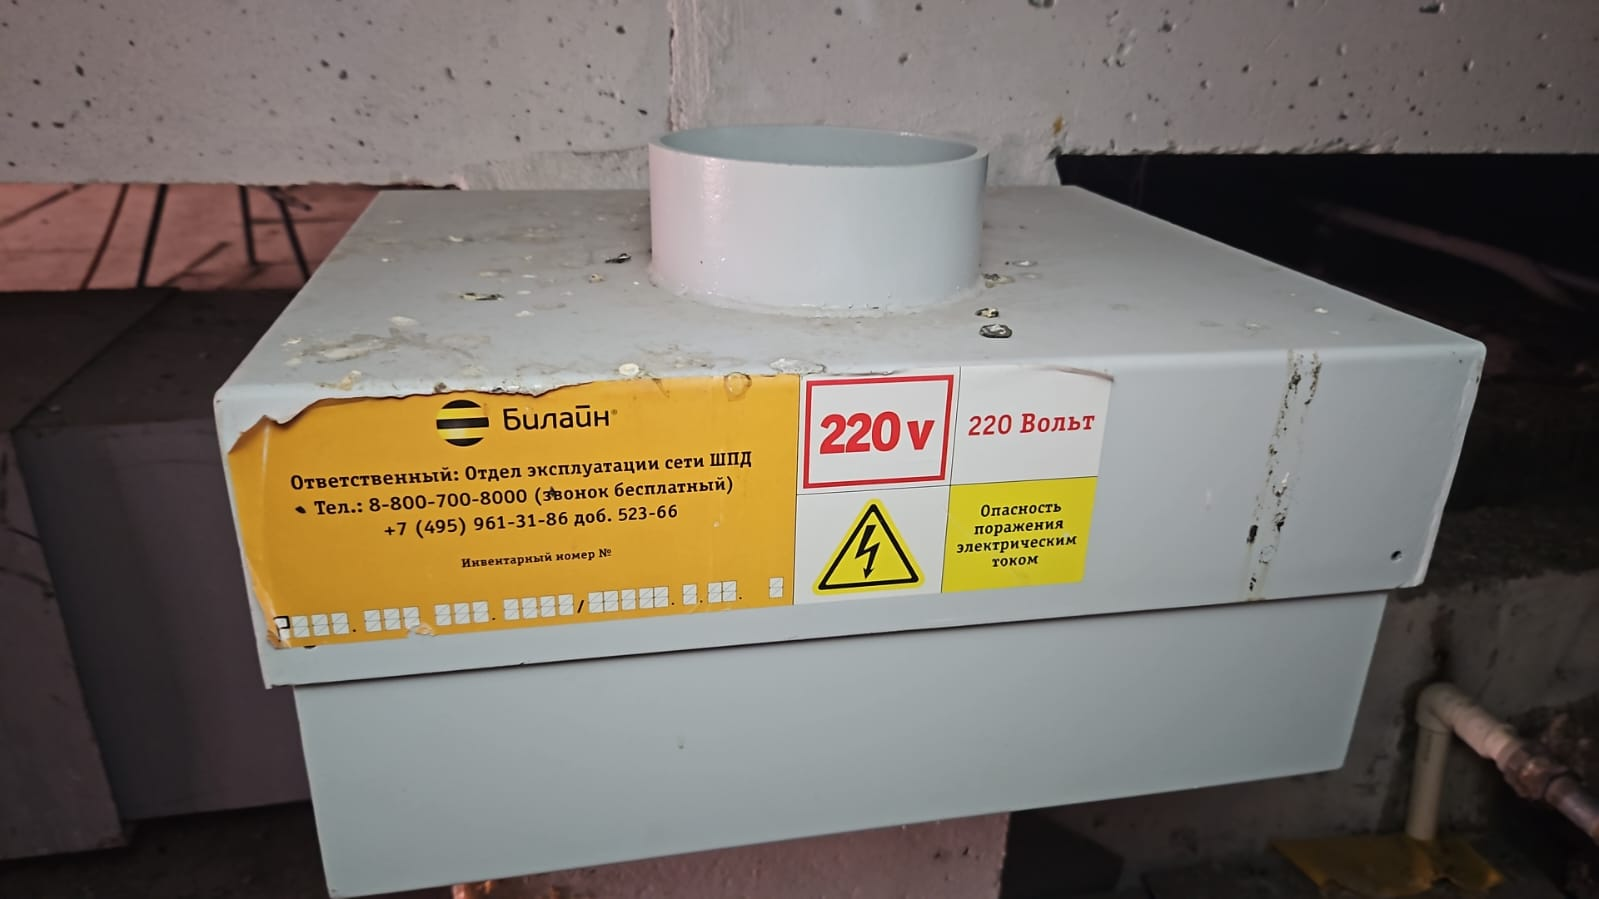shta-ps: (197, 106, 1506, 876)
